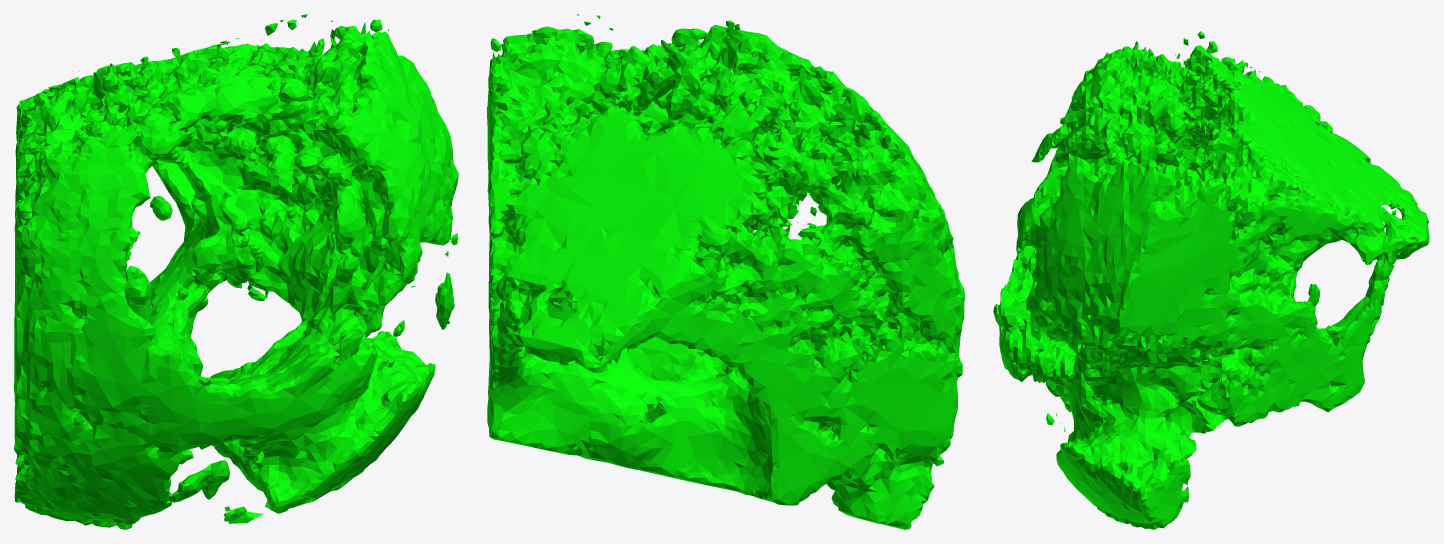
Rendered from B939XXXX-1_base_17.obj.
The picture shows the model from 3 angles, left to right: view 1: azimuth 30°, elevation 25°; view 2: azimuth 150°, elevation 25°; view 3: azimuth 270°, elevation 25°; orthographic projection. The views are drawn at different scales.
Parts seen in each view (by area): view 1: 17_base; view 2: 17_base; view 3: 17_base.
Part boxes in pixels (x1,y1,x2,y2): 17_base: (14, 14, 458, 529); 17_base: (487, 14, 964, 529); 17_base: (993, 19, 1429, 529).
Bounding box in the file's own units: 218 × 214 × 205.
